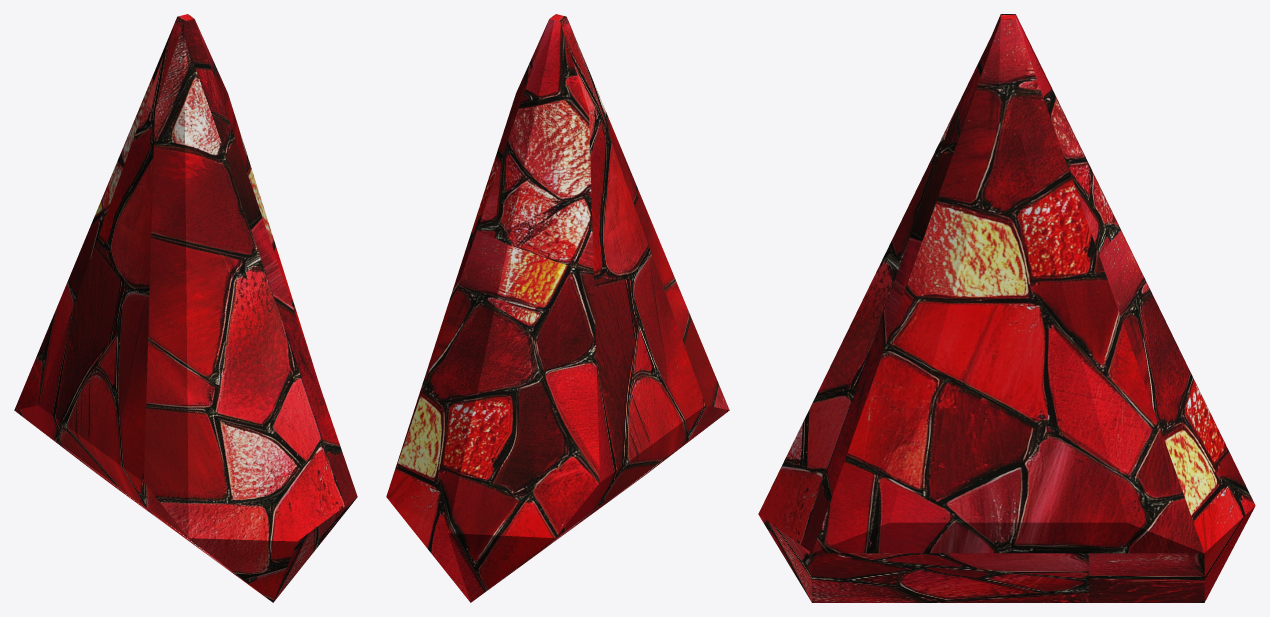
File: gemstone4Red.glb
3 views of the same model, side by side, from view 1: azimuth 30°, elevation 25°; view 2: azimuth 150°, elevation 25°; view 3: azimuth 270°, elevation 25° (orthographic). The views are drawn at different scales.
Visible parts, largest first — view 1: gemstone3; view 2: gemstone3; view 3: gemstone3.
Part boxes in pixels (x1,y1,x2,y2): gemstone3: (14, 14, 357, 602); gemstone3: (386, 14, 729, 602); gemstone3: (758, 14, 1255, 602).
Size of the model in its own units: 0.5 by 1.3 by 1.
Materials: 1 (1 with a texture image).
